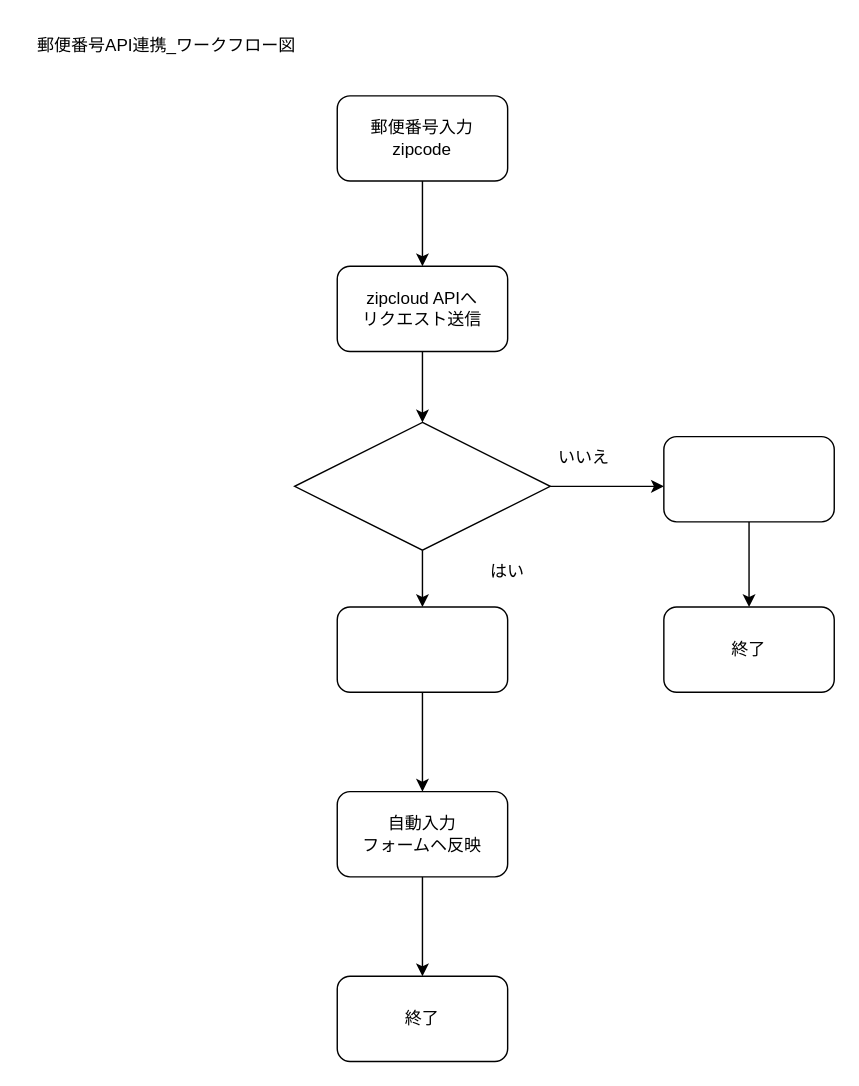
The diagram is 859 pixels wide and 1086 high, and some of its shapes have lost their labels. Here are the shapes that lost their labels. From the top down, the centre of each, then its label:
point (421, 485): 住所が見つかった？
point (748, 478): エラー返却 住所該当なし
point (422, 649): 住所を結合 都道府県＋市町村＋町域
